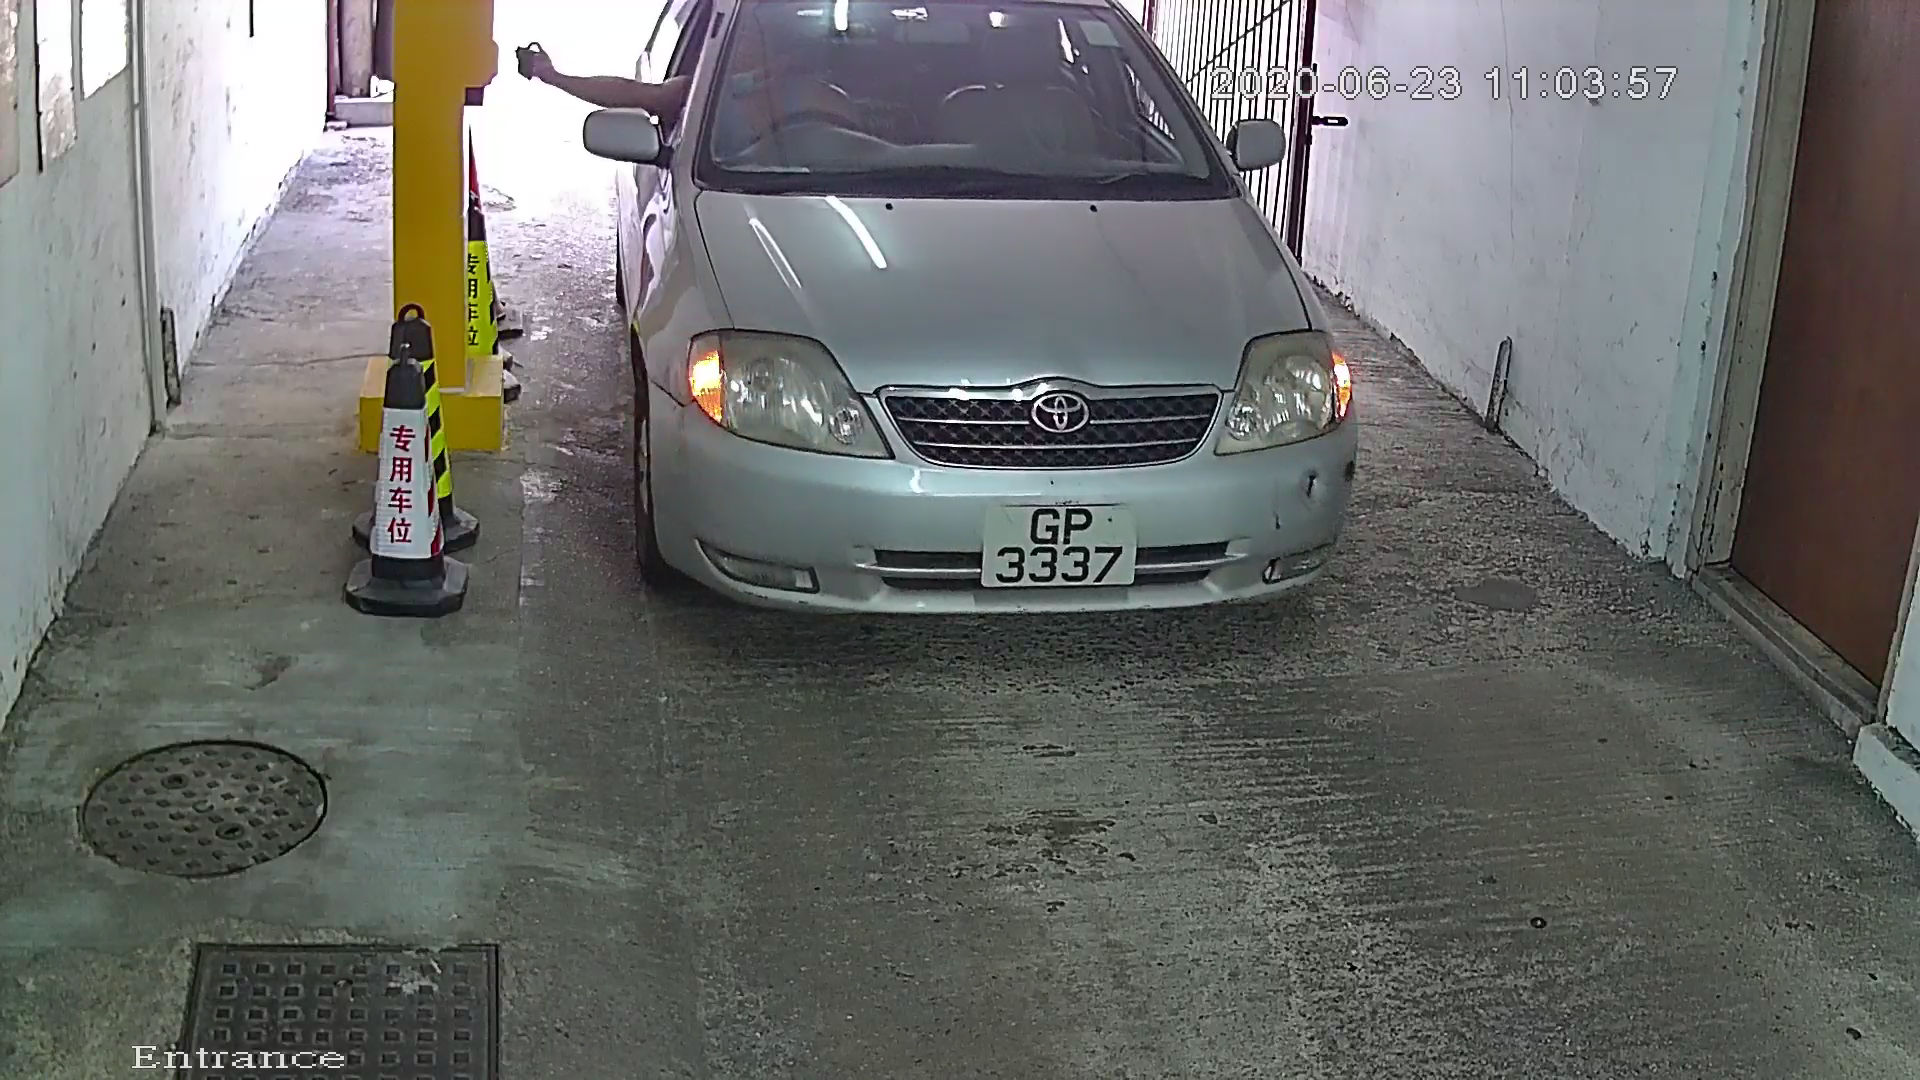privatecar: (568, 3, 1456, 655)
